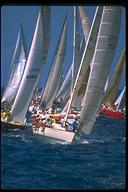sailboat: (30, 4, 122, 146), (1, 5, 53, 134), (27, 14, 69, 115), (98, 45, 127, 120)
sky: (2, 6, 14, 53)
water: (2, 146, 125, 189)
